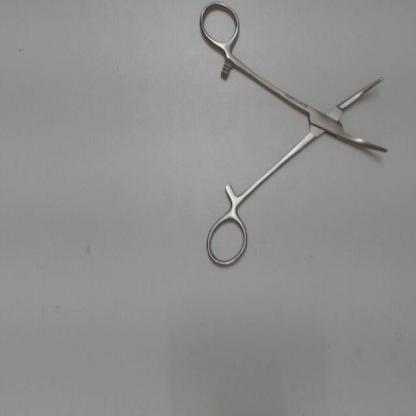Crile Artery Forceps: (192, 1, 396, 274)
